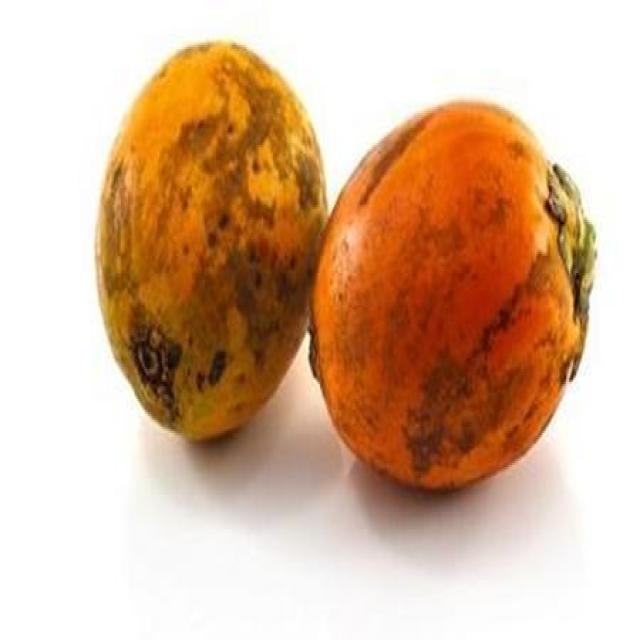good: (310, 102, 593, 495), (94, 41, 330, 446)
